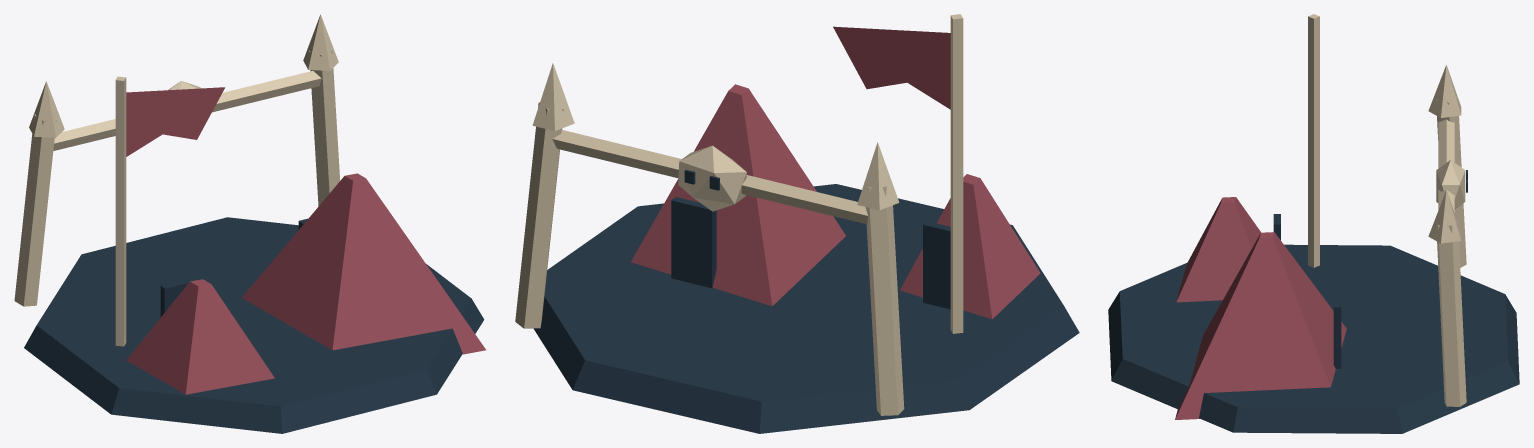
Rendered from MonsterCamp.fbx.
3 renders of one model, left to right at view 1: azimuth 30°, elevation 25°; view 2: azimuth 150°, elevation 25°; view 3: azimuth 270°, elevation 25°, orthographic. The views are drawn at different scales.
Parts seen in each view (by area): view 1: MonsterCamp; view 2: MonsterCamp; view 3: MonsterCamp.
Boxes of the visible parts, x1,y1,x2,y2 form: MonsterCamp: (14, 14, 485, 433); MonsterCamp: (515, 14, 1079, 433); MonsterCamp: (1108, 14, 1519, 433).
Bounding box in the file's own units: 2 × 1.45 × 2.
